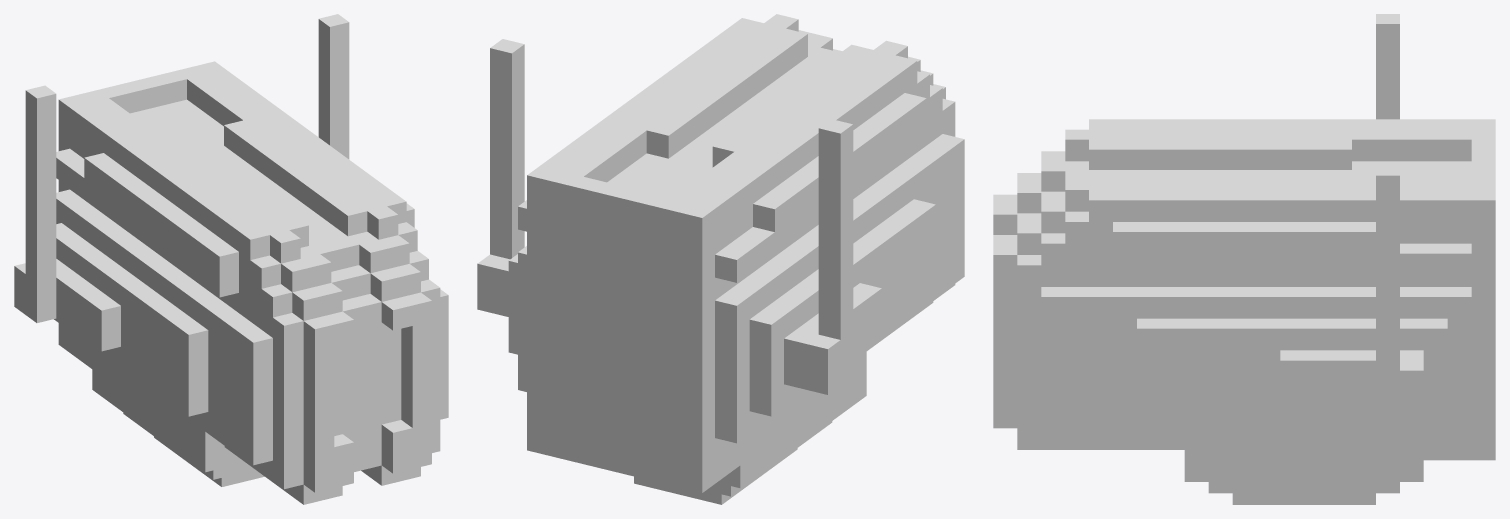
The model's file is Mech - Hovertime-1.obj.
3 renders of one model, left to right at view 1: azimuth 30°, elevation 25°; view 2: azimuth 150°, elevation 25°; view 3: azimuth 270°, elevation 25°, orthographic. The views are drawn at different scales.
Bounding box in the file's own units: 1.6 × 1.8 × 2.1.
Materials: 1 (1 with a texture image).
